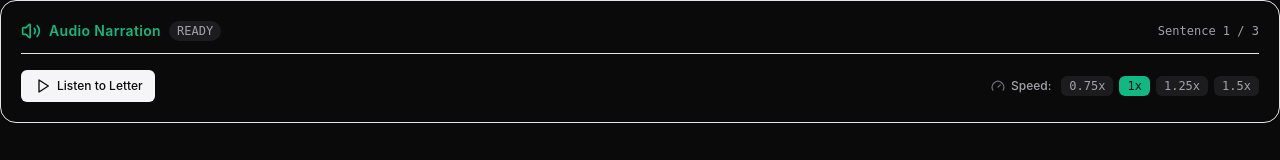
TTSPlayer Component › notifies parent of sentence changes during narration and advances sentences
Click the button with aria-label "Play reading letter aloud". click: (88, 86)
box: [21,70,155,102]
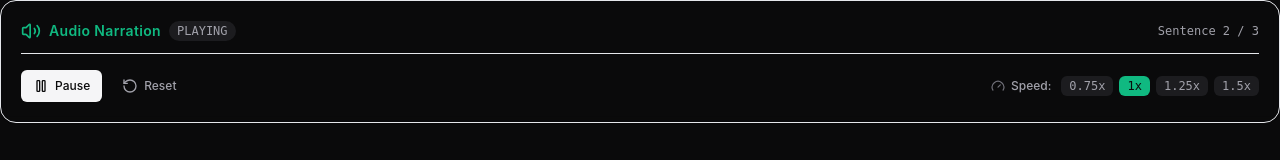
Now the text "Sentence 2 / 3" is shown, box [1158,23,1259,39]
